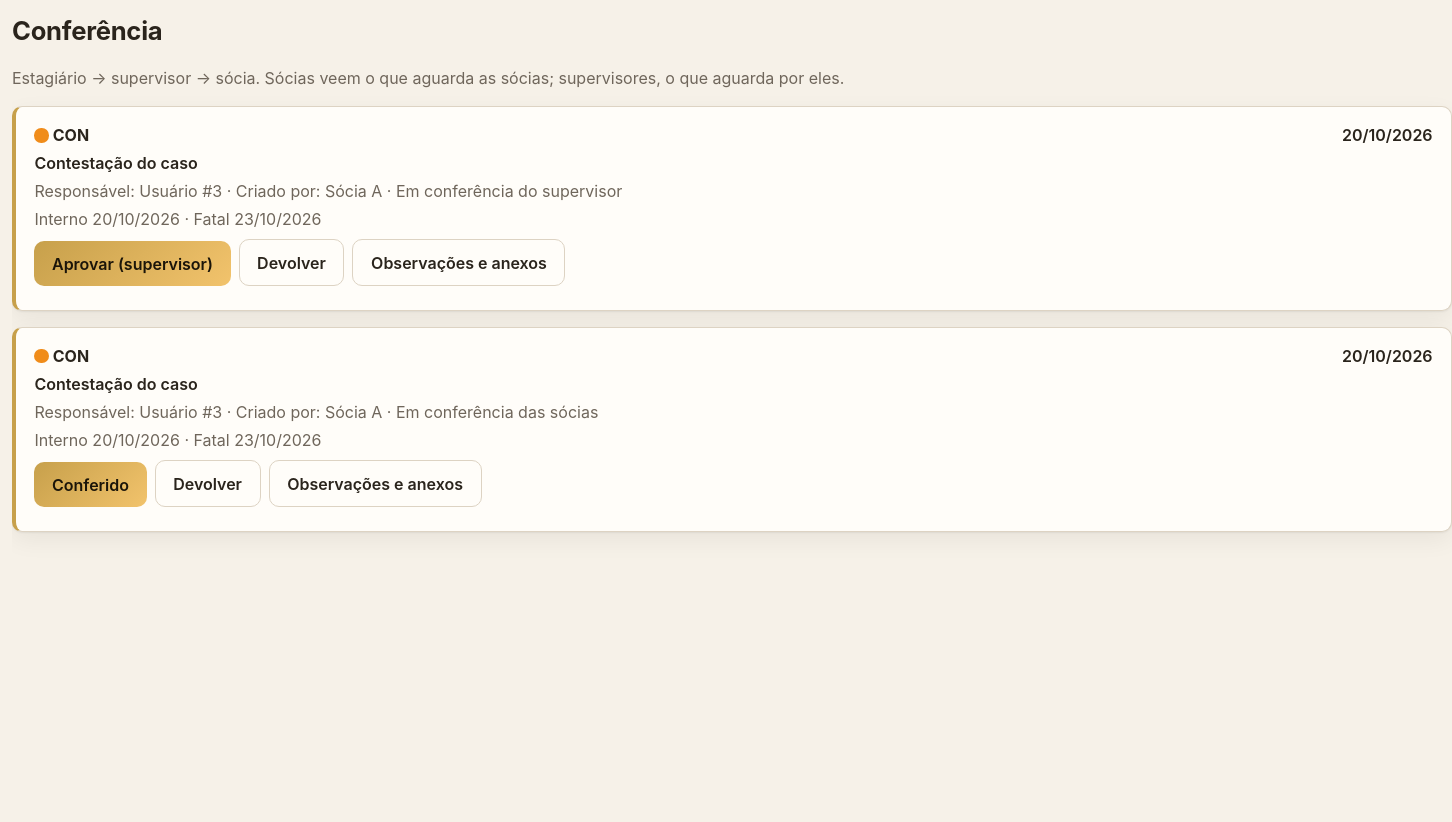
Test case: ConferenciaView › mostra o erro do servidor
Click the button "Conferido".
click(90, 485)  # box [34, 462, 147, 507]
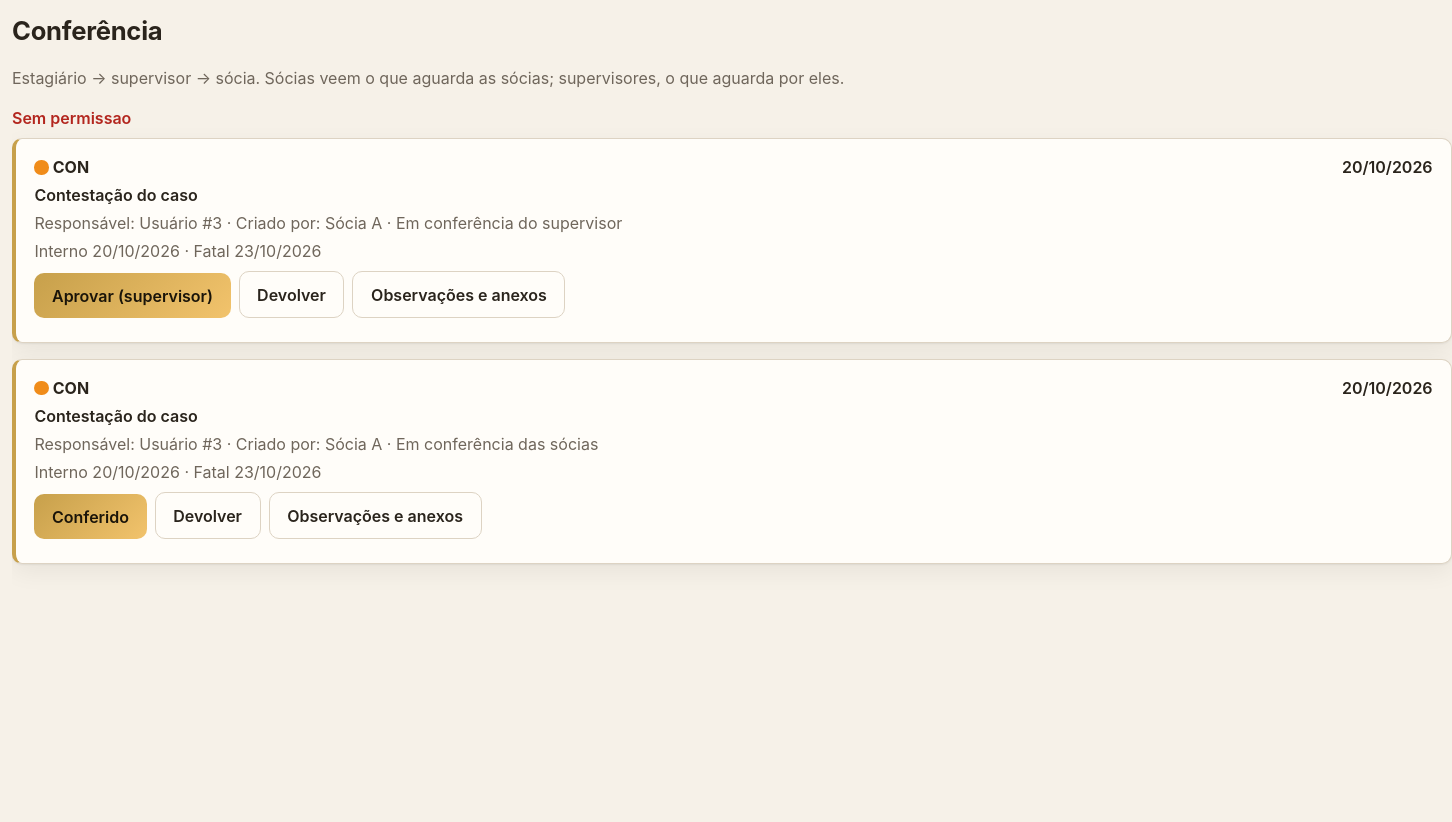
Check: the message "Sem permissao" is shown, box [12, 108, 131, 128]
